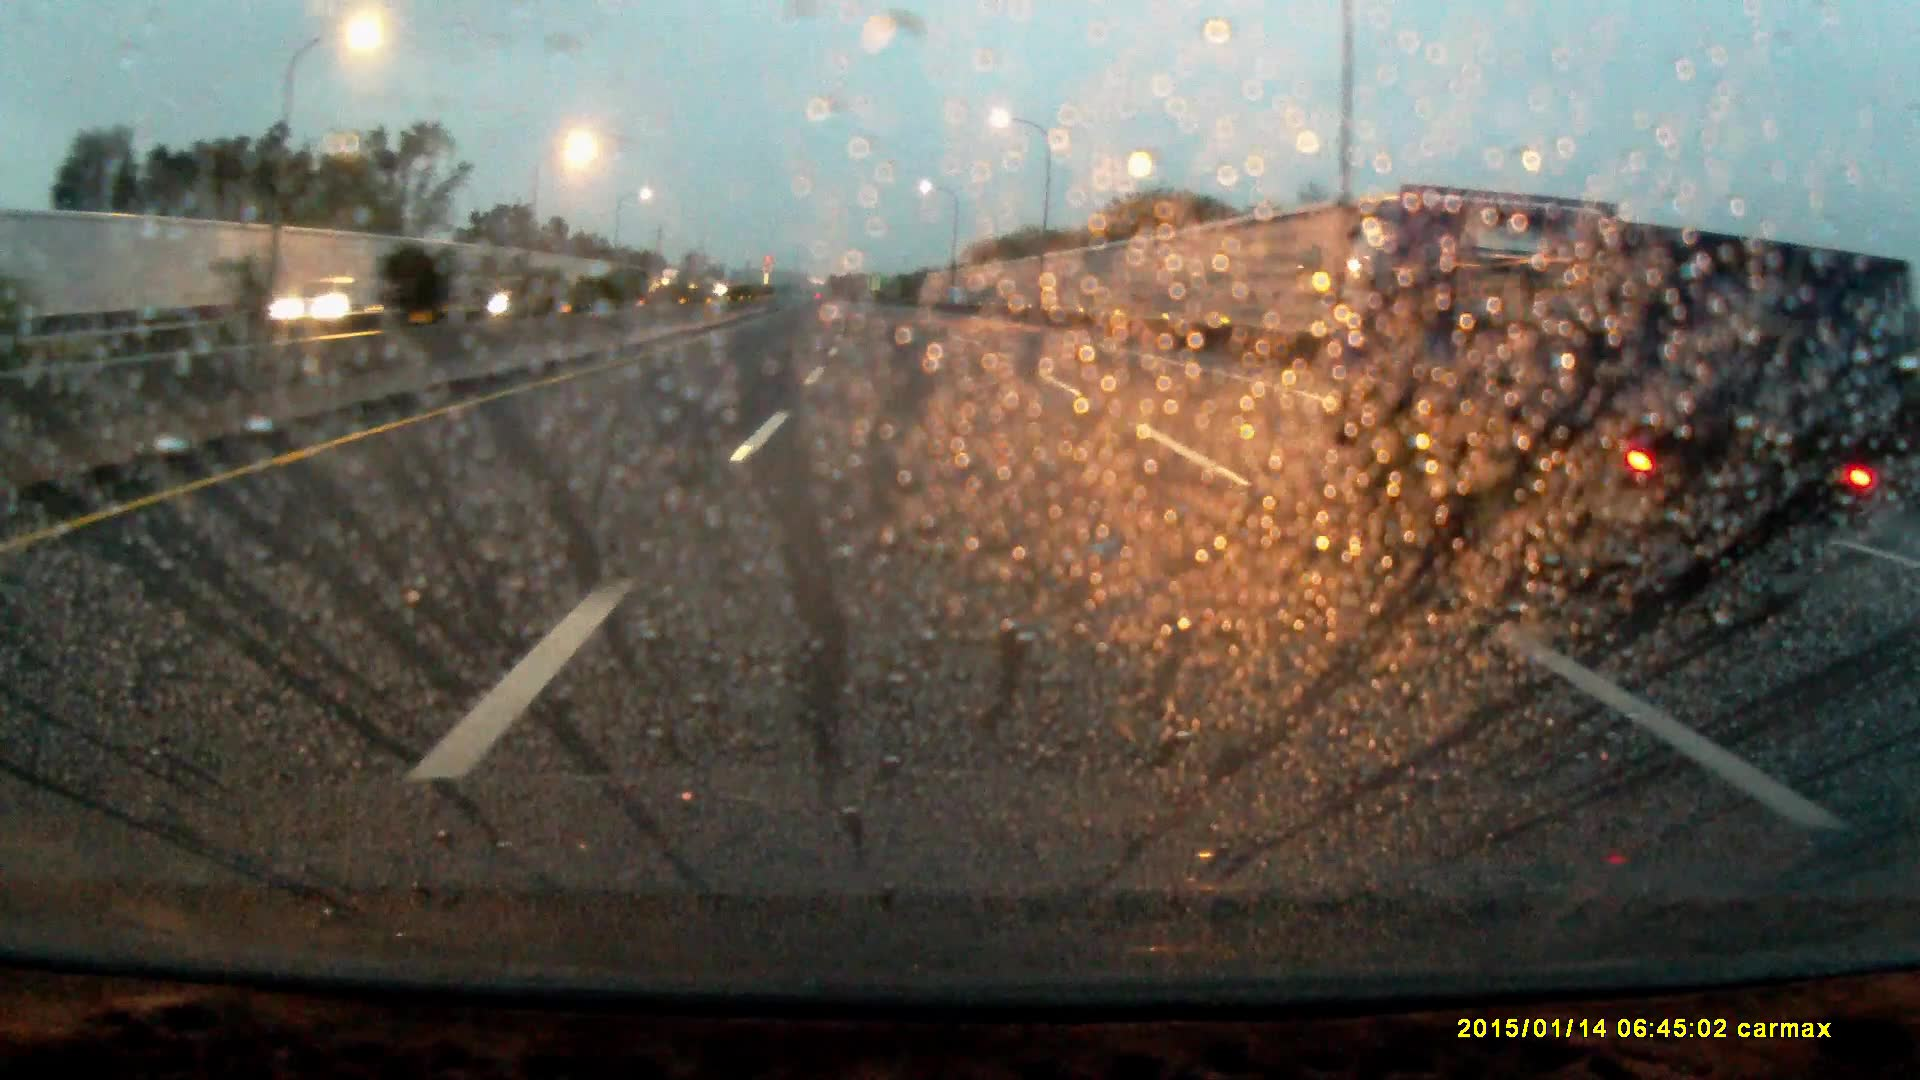vehicle: (1292, 193, 1871, 605), (272, 277, 377, 324), (465, 269, 541, 316), (661, 269, 684, 299)
